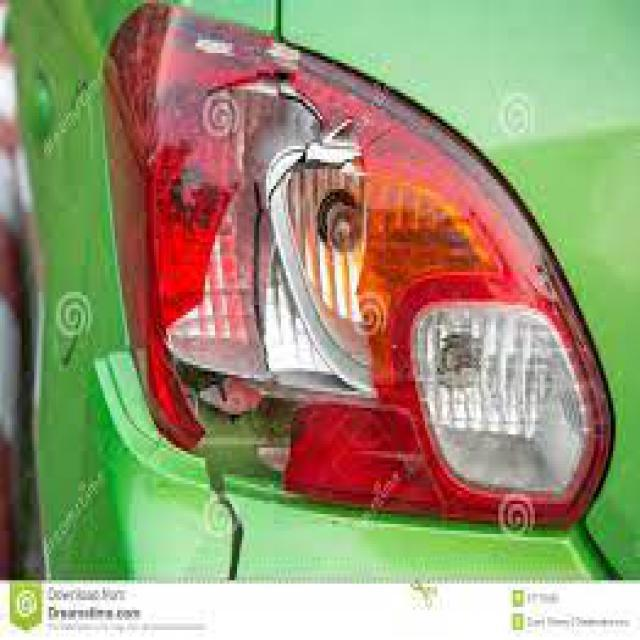Taillight-Damage: (68, 7, 628, 578)
